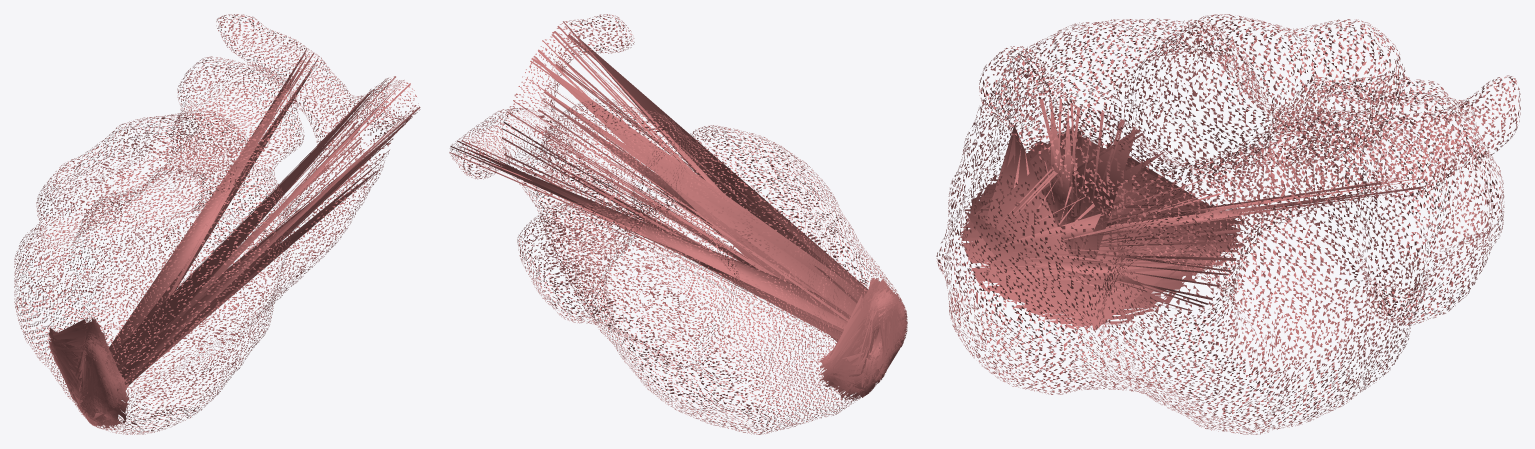
File: heart.glb
3 renders of one model, left to right at view 1: azimuth 30°, elevation 25°; view 2: azimuth 150°, elevation 25°; view 3: azimuth 270°, elevation 25°, orthographic. The views are drawn at different scales.
Size of the model in its own units: 129 by 114 by 113.
